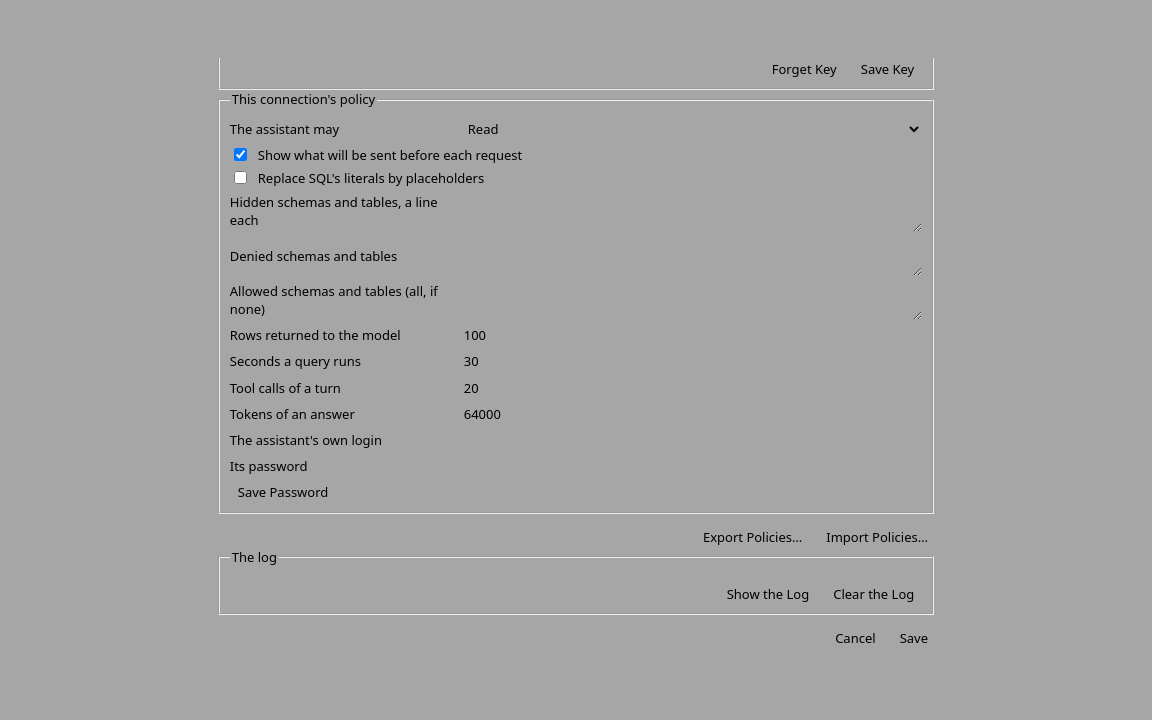
the assistant's settings › exports and imports the policies, and shows and clears the log [DESIGN] D55
(page scrolled)
Click the button "Export Policies…" at (753, 537), box [695, 526, 810, 548]
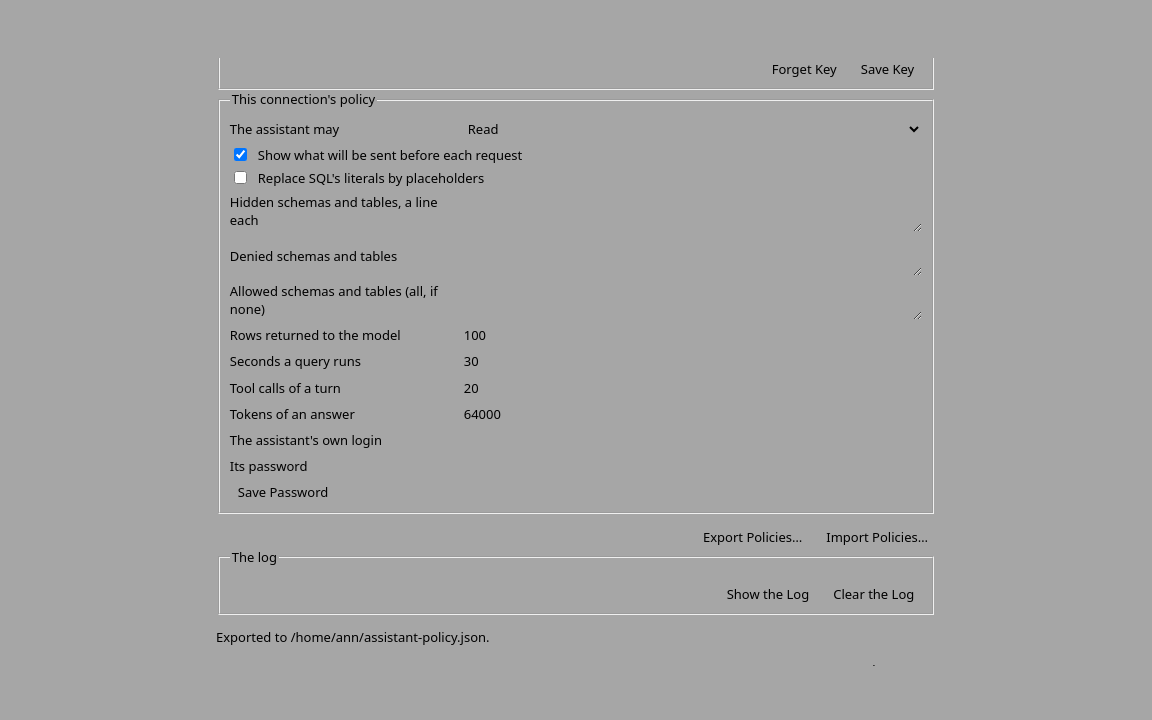
Check: the message reads "Exported to /home/ann/assistant-policy.json.", box [216, 628, 490, 646]
Click the button "Export Policies…" at (753, 537), box [695, 526, 810, 548]
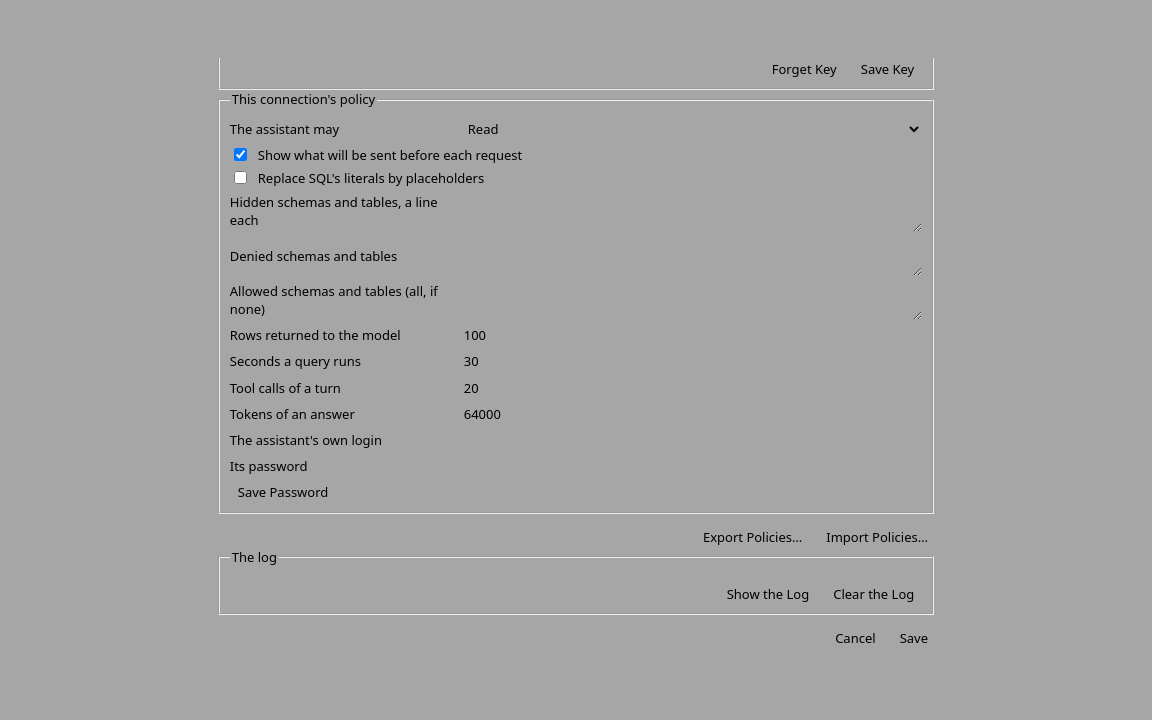
Check: the message "Exported to /home/ann/assistant-policy.json." is gone
Click the button "Import Policies…" at (877, 537), box [818, 526, 936, 548]
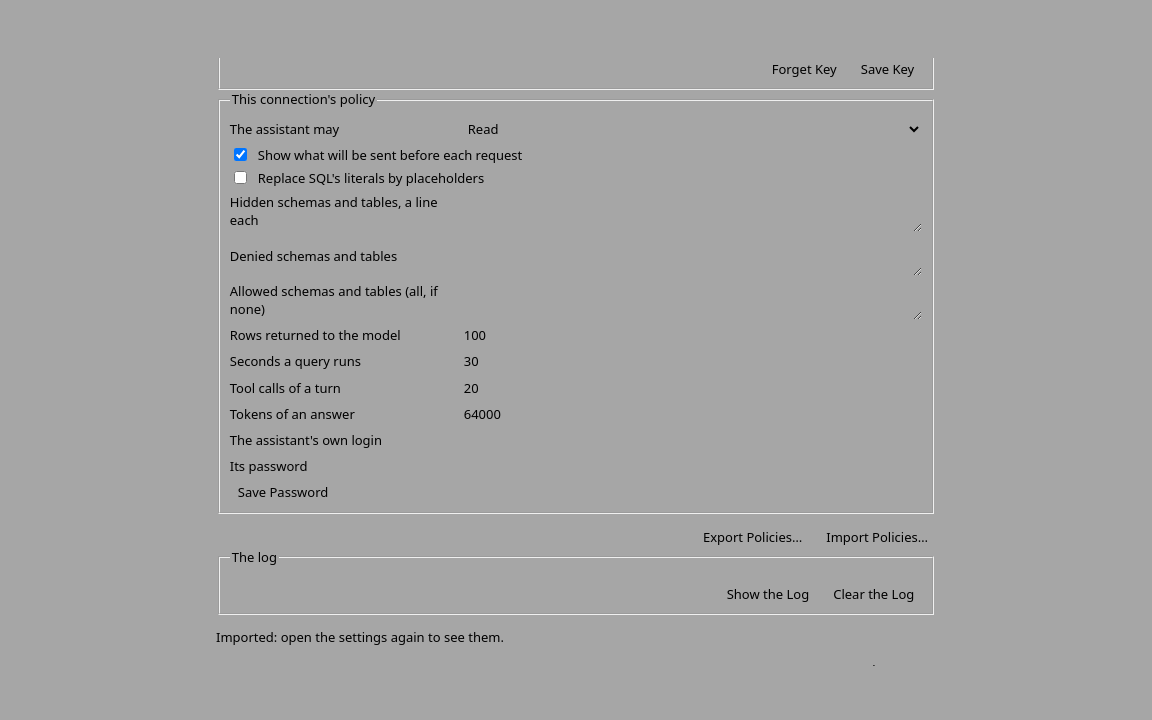
Check: the message shows "Imported", box [216, 628, 504, 646]
Click the button "Show the Log" at (768, 594), box [719, 583, 817, 605]
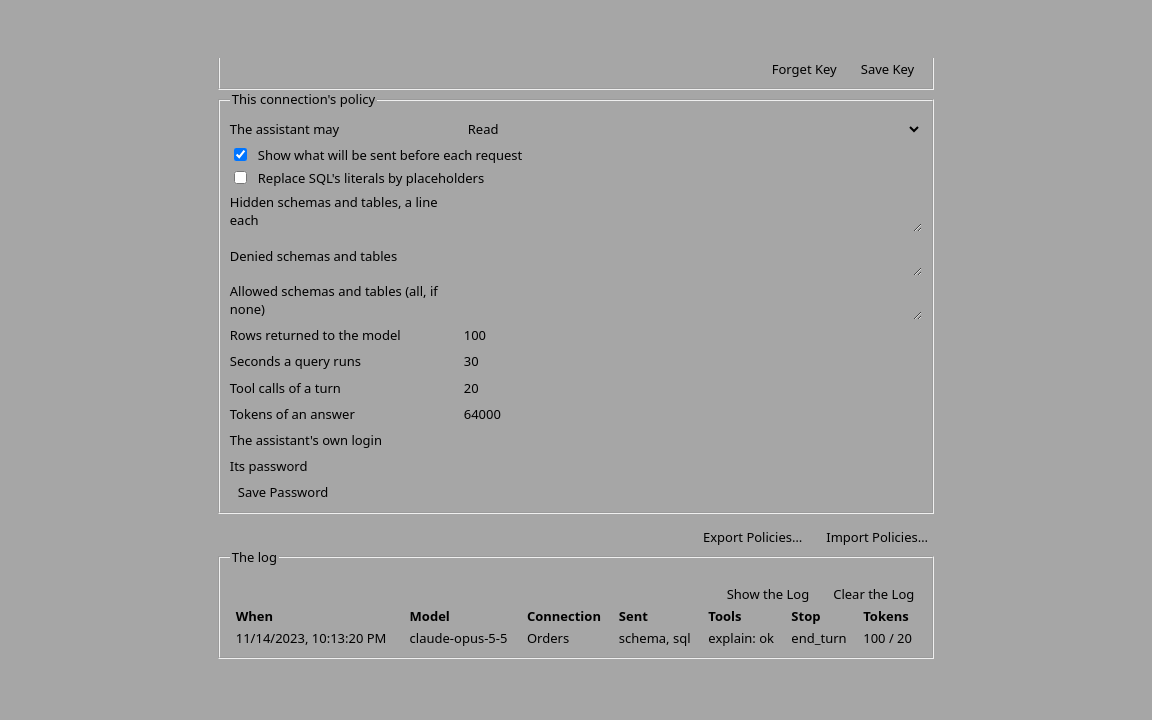
Check: the table named "The assistant's log" shows "explain: ok", box [708, 629, 774, 647]
Check: the table named "The assistant's log" shows "100 / 20", box [863, 629, 912, 647]
Click the button "Clear the Log" at (874, 594), box [825, 583, 922, 605]
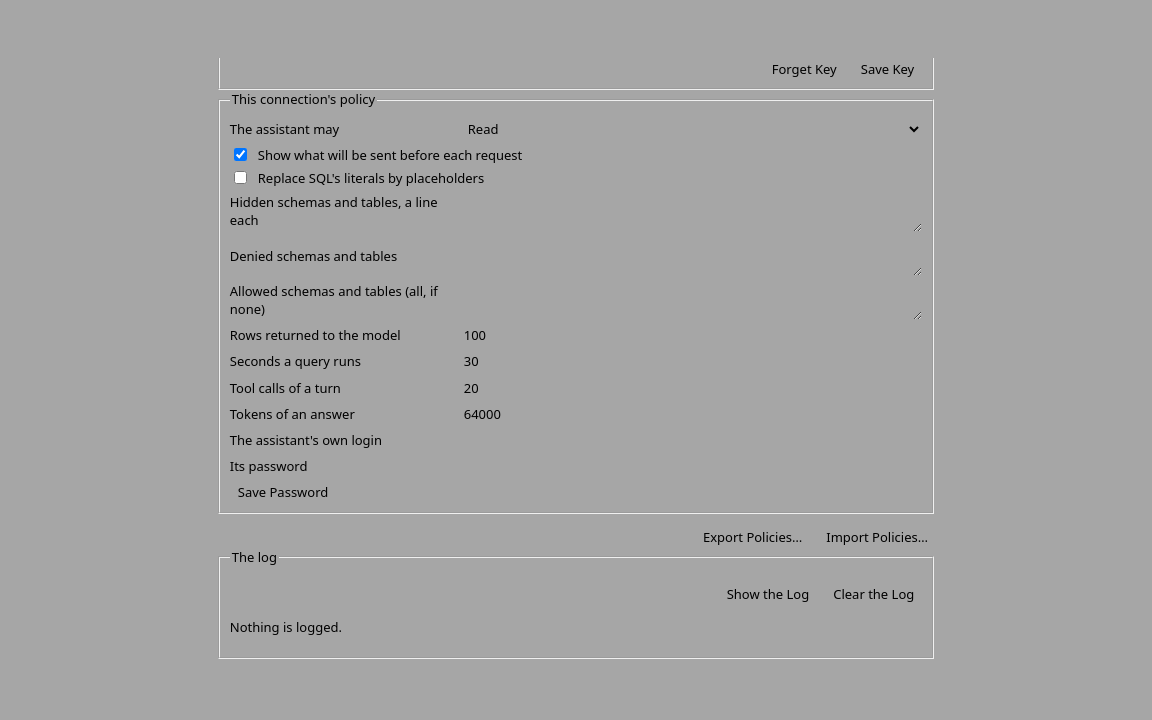
Check: the text "Nothing is logged." is shown, box [230, 618, 342, 636]
